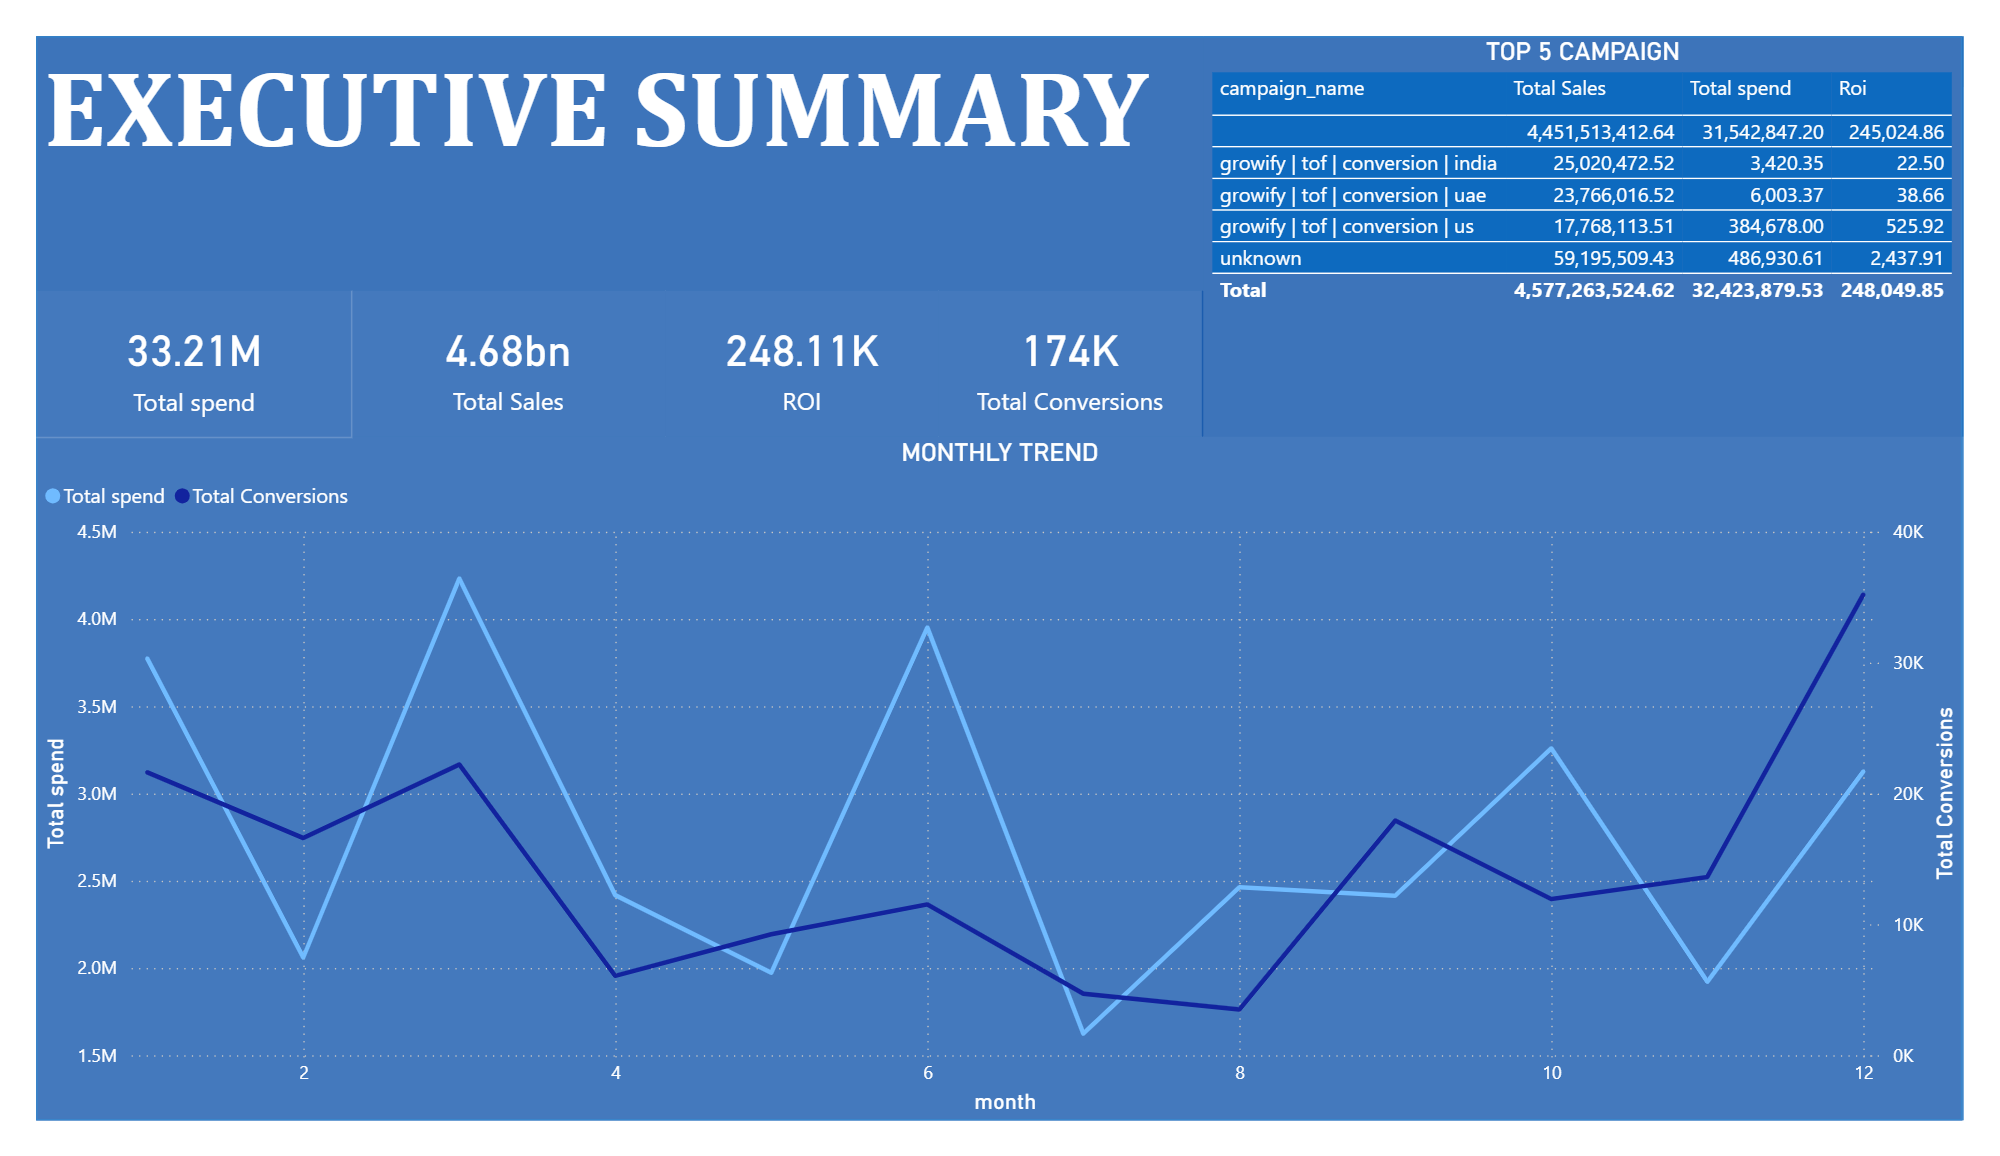

What the dashboard file says about the page in this screenshot:
{"tool":"powerbi","page":{"name":"Page 1","canvas":[1280,720],"ordinal":0},"visuals":[{"type":"shape","box":[0,0,1279.5,720.2],"z":0},{"type":"card","fields":{"Values":["fact_sales_table.Total spend"]},"box":[0,169.3,209.8,98.2],"z":1000},{"type":"card","fields":{"Values":["fact_sales_table.Total Sales"]},"box":[209.4,169.5,208.2,96.8],"z":2000},{"type":"card","fields":{"Values":["Sum(fact_sales_table.roi)"]},"box":[417.6,169.5,181.6,96.8],"z":3000},{"type":"card","fields":{"Values":["fact_sales_table.Total Conversions"]},"box":[598.8,169.3,175.5,96.9],"z":4000},{"type":"lineChart","title":"MONTHLY TREND","fields":{"Category":["dim_date_table.month"],"Y":["fact_sales_table.Total spend"],"Y2":["fact_sales_table.Total Conversions"]},"box":[0,266.3,1279.8,454],"z":5000},{"type":"tableEx","title":"TOP 5 CAMPAIGN","fields":{"Values":["dim_camp_table.campaign_name","fact_sales_table.Total Sales","fact_sales_table.Total spend","Sum(fact_sales_table.roi)"]},"box":[774.7,0,504.8,266.3],"z":6000},{"type":"textbox","box":[0,0,774.7,169.5],"z":7000}]}

Visuals, with their boxes in screenshot pixels (x1, y1, x2, y2), scaled from the page's 1280x720 canvas onto the 2000x1156 screenshot:
shape: l=0, t=0, r=1999, b=1155
card - fact_sales_table.Total spend: l=0, t=272, r=328, b=429
card - fact_sales_table.Total Sales: l=327, t=272, r=652, b=428
card - Sum(fact_sales_table.roi): l=652, t=272, r=936, b=428
card - fact_sales_table.Total Conversions: l=936, t=272, r=1210, b=427
"MONTHLY TREND" lineChart: l=0, t=428, r=1999, b=1155
"TOP 5 CAMPAIGN" tableEx: l=1210, t=0, r=1999, b=428
textbox: l=0, t=0, r=1210, b=272
